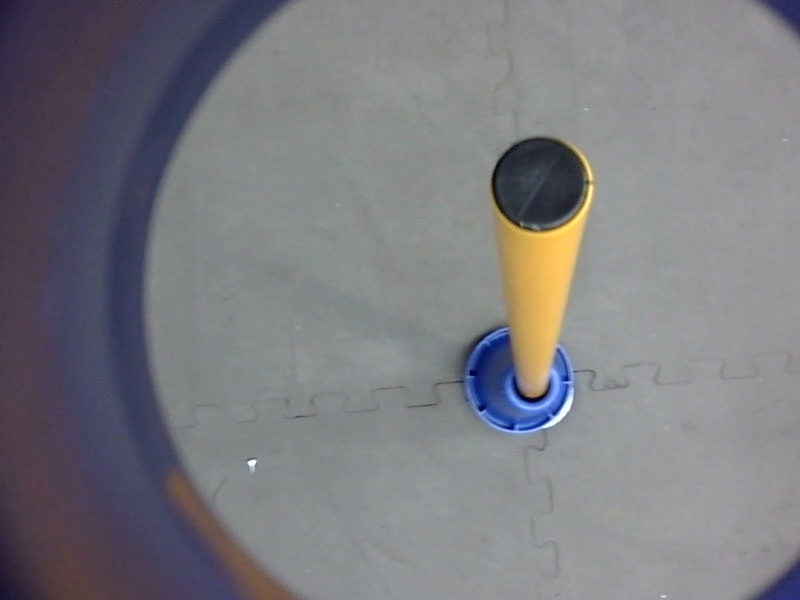tip: (486, 132, 598, 241)
